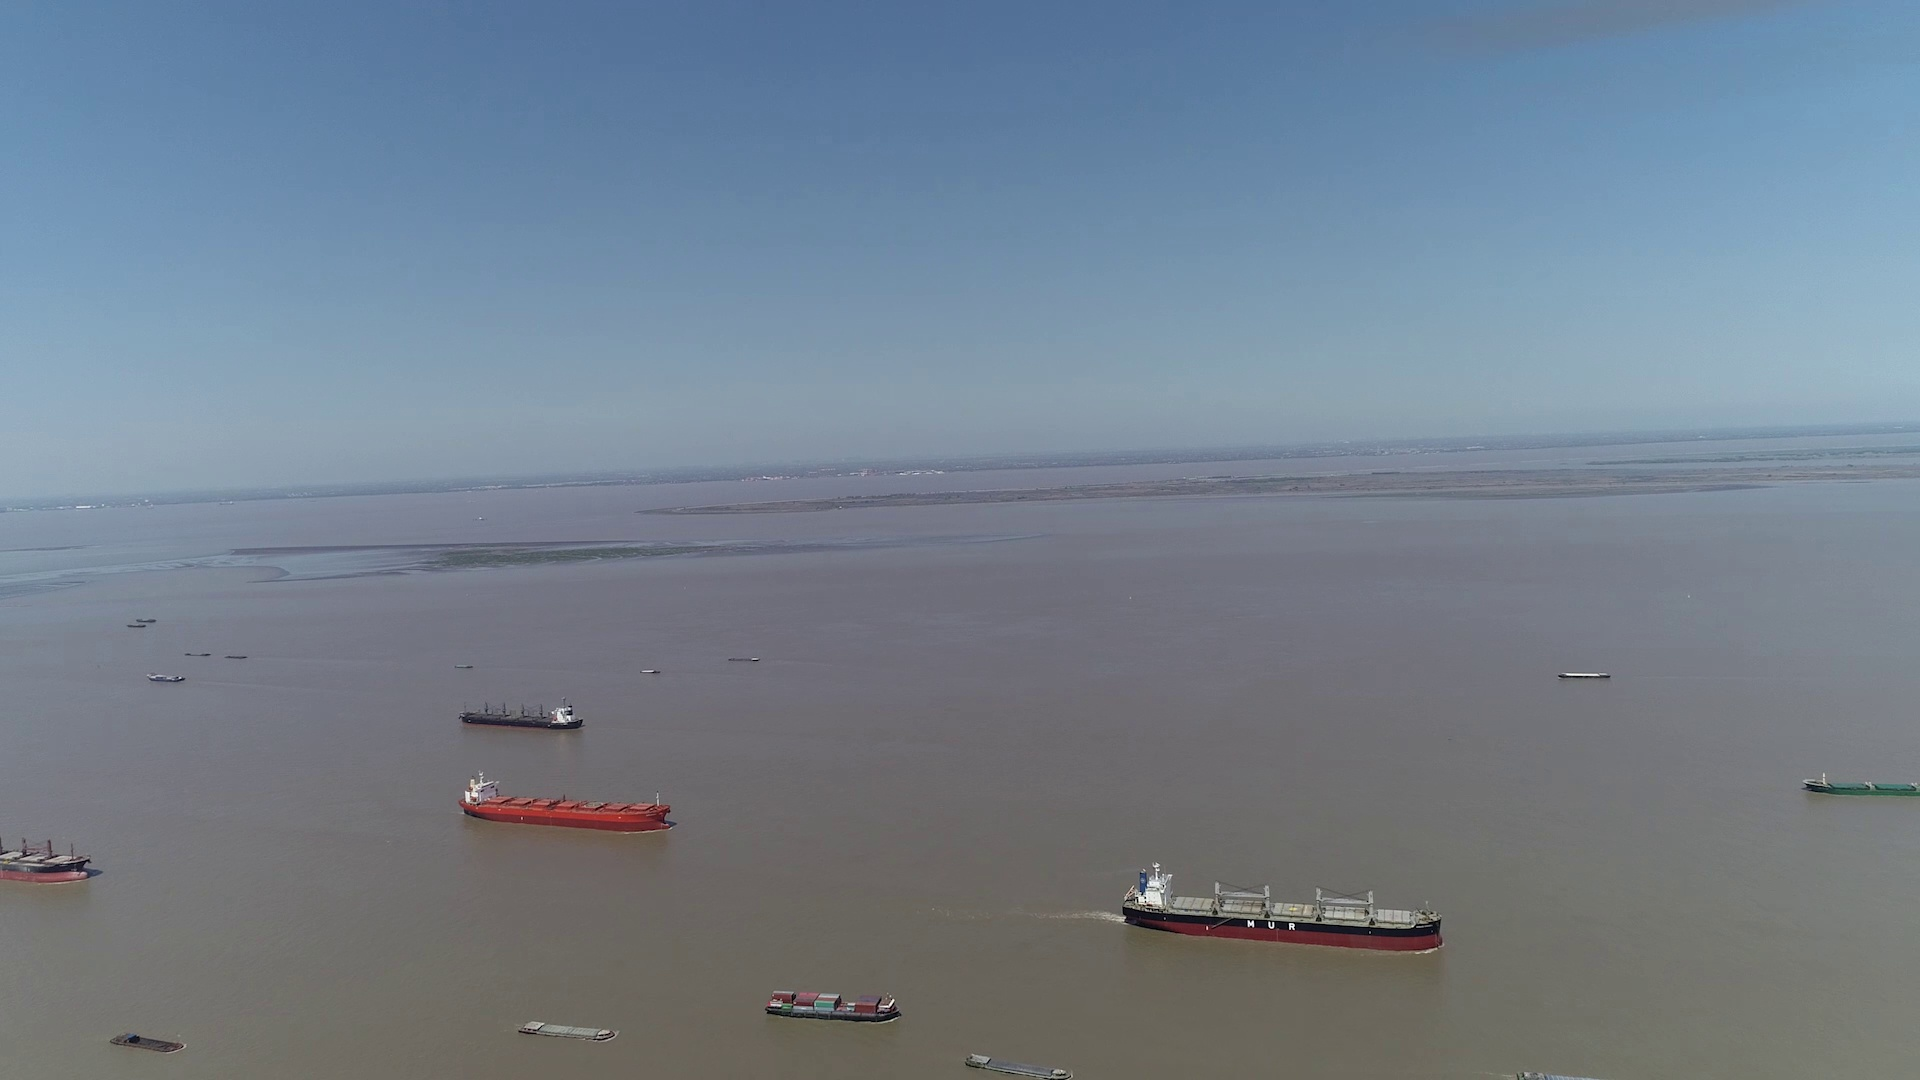ship: (1120, 864, 1447, 953), (459, 769, 670, 832), (1, 825, 94, 885), (765, 990, 899, 1023), (460, 698, 583, 729), (964, 1054, 1072, 1080), (1803, 775, 1919, 798), (521, 1021, 615, 1043), (111, 1035, 183, 1054), (1557, 669, 1611, 678), (145, 673, 185, 684)
